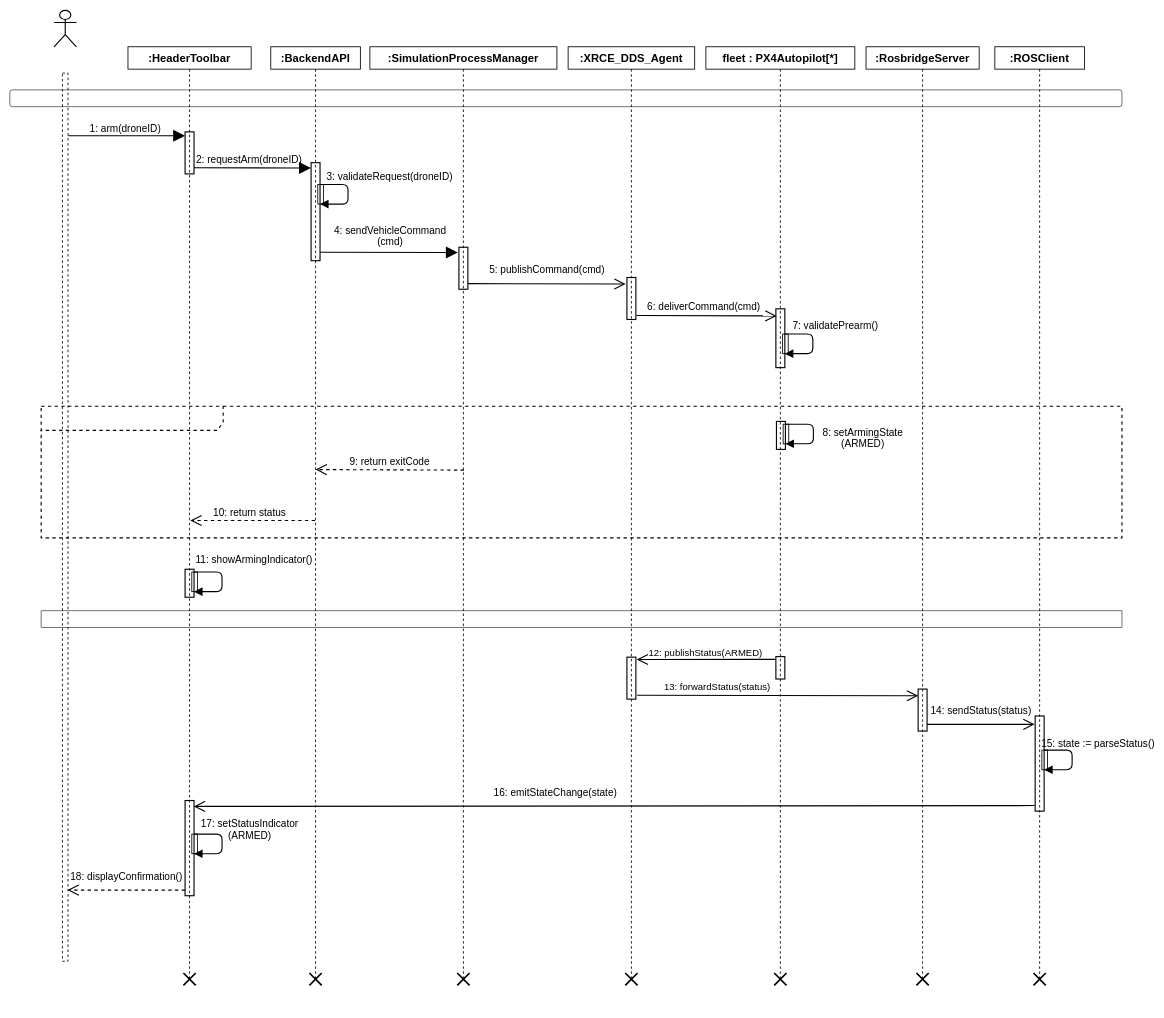
The diagram is 1164 pixels wide and 1018 high, and some of its shapes have lost their labels. Here are the shapes that lost their labels. From the top down, the box of each, then its label:
(53, 10, 77, 47): :GCS_Operator
(9, 89, 1122, 107): Command Dispatch Phase: GCS → PX4 Autopilot
(40, 405, 1122, 538): opt [pre-arm checks pass]
(41, 610, 1122, 627): Telemetry Confirmation Phase: Asynchronous Status Update
